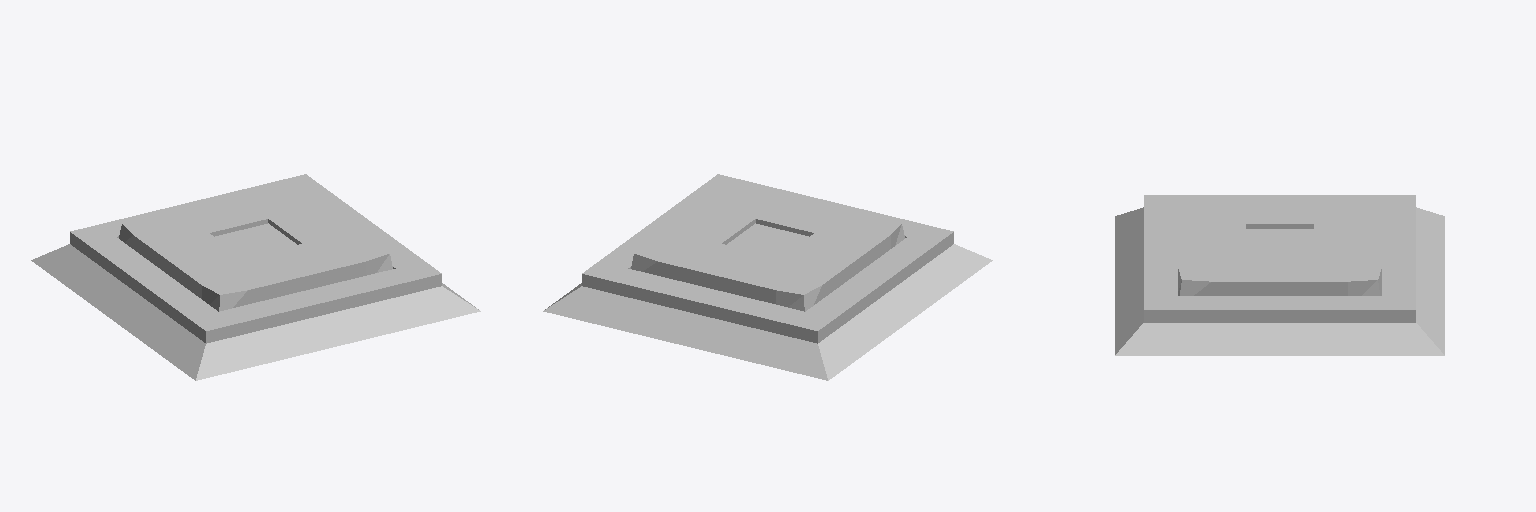
File: button.obj
The picture shows the model from 3 angles: view 1: azimuth 30°, elevation 25°; view 2: azimuth 150°, elevation 25°; view 3: azimuth 270°, elevation 25°; orthographic projection.
Visible parts, largest first — view 1: Plane; view 2: Plane; view 3: Plane.
Part boxes in pixels (x1,y1,x2,y2): Plane: (31, 174, 480, 380); Plane: (543, 174, 992, 380); Plane: (1115, 195, 1444, 355).
Size of the model in its own units: 4.84 by 0.9663 by 4.84.